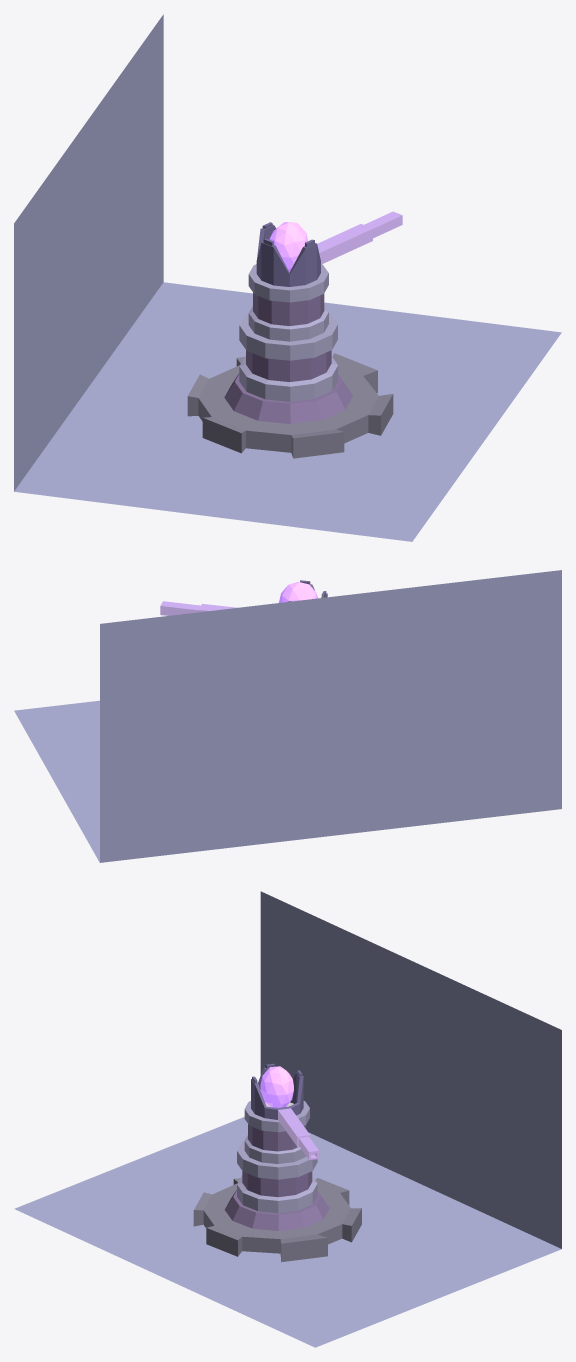
Rendered from torreta2.fbx.
The picture shows the model from 3 angles, top to bottom: view 1: azimuth 30°, elevation 25°; view 2: azimuth 150°, elevation 25°; view 3: azimuth 270°, elevation 25°; orthographic projection. The views are drawn at different scales.
Visible parts, largest first — view 1: Plane, Cylinder.001, Cylinder, Icosphere; view 2: Plane, Cylinder.001, Icosphere; view 3: Plane, Cylinder.001, Cylinder, Icosphere.
Part boxes in pixels (bbox=[...]): Plane: bbox=[14, 14, 561, 541]; Cylinder.001: bbox=[224, 211, 402, 423]; Cylinder: bbox=[187, 353, 393, 458]; Icosphere: bbox=[269, 222, 307, 272]; Plane: bbox=[14, 570, 561, 862]; Cylinder.001: bbox=[160, 580, 327, 615]; Icosphere: bbox=[279, 581, 317, 602]; Plane: bbox=[14, 891, 561, 1347]; Cylinder.001: bbox=[224, 1063, 329, 1230]; Cylinder: bbox=[193, 1178, 361, 1262]; Icosphere: bbox=[260, 1066, 293, 1107].
Bounding box in the file's own units: 1241 × 561 × 1240.
